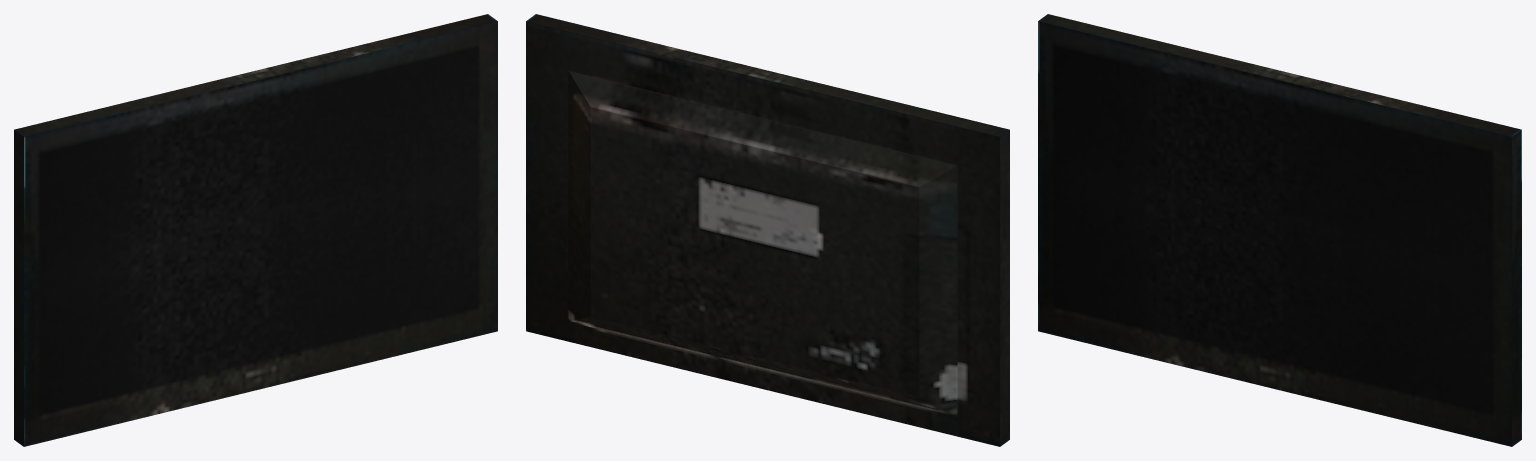
The model's file is Television01a.obj.
3 renders of one model, left to right at view 1: azimuth 30°, elevation 25°; view 2: azimuth 150°, elevation 25°; view 3: azimuth 330°, elevation 25°, orthographic.
Visible parts, largest first — view 1: Television01a; view 2: Television01a; view 3: Television01a.
Part boxes in pixels (x1,y1,x2,y2): Television01a: (14, 14, 497, 446); Television01a: (526, 14, 1009, 446); Television01a: (1038, 14, 1521, 446).
Size of the model in its own units: 2 by 1.25 by 0.1317.
